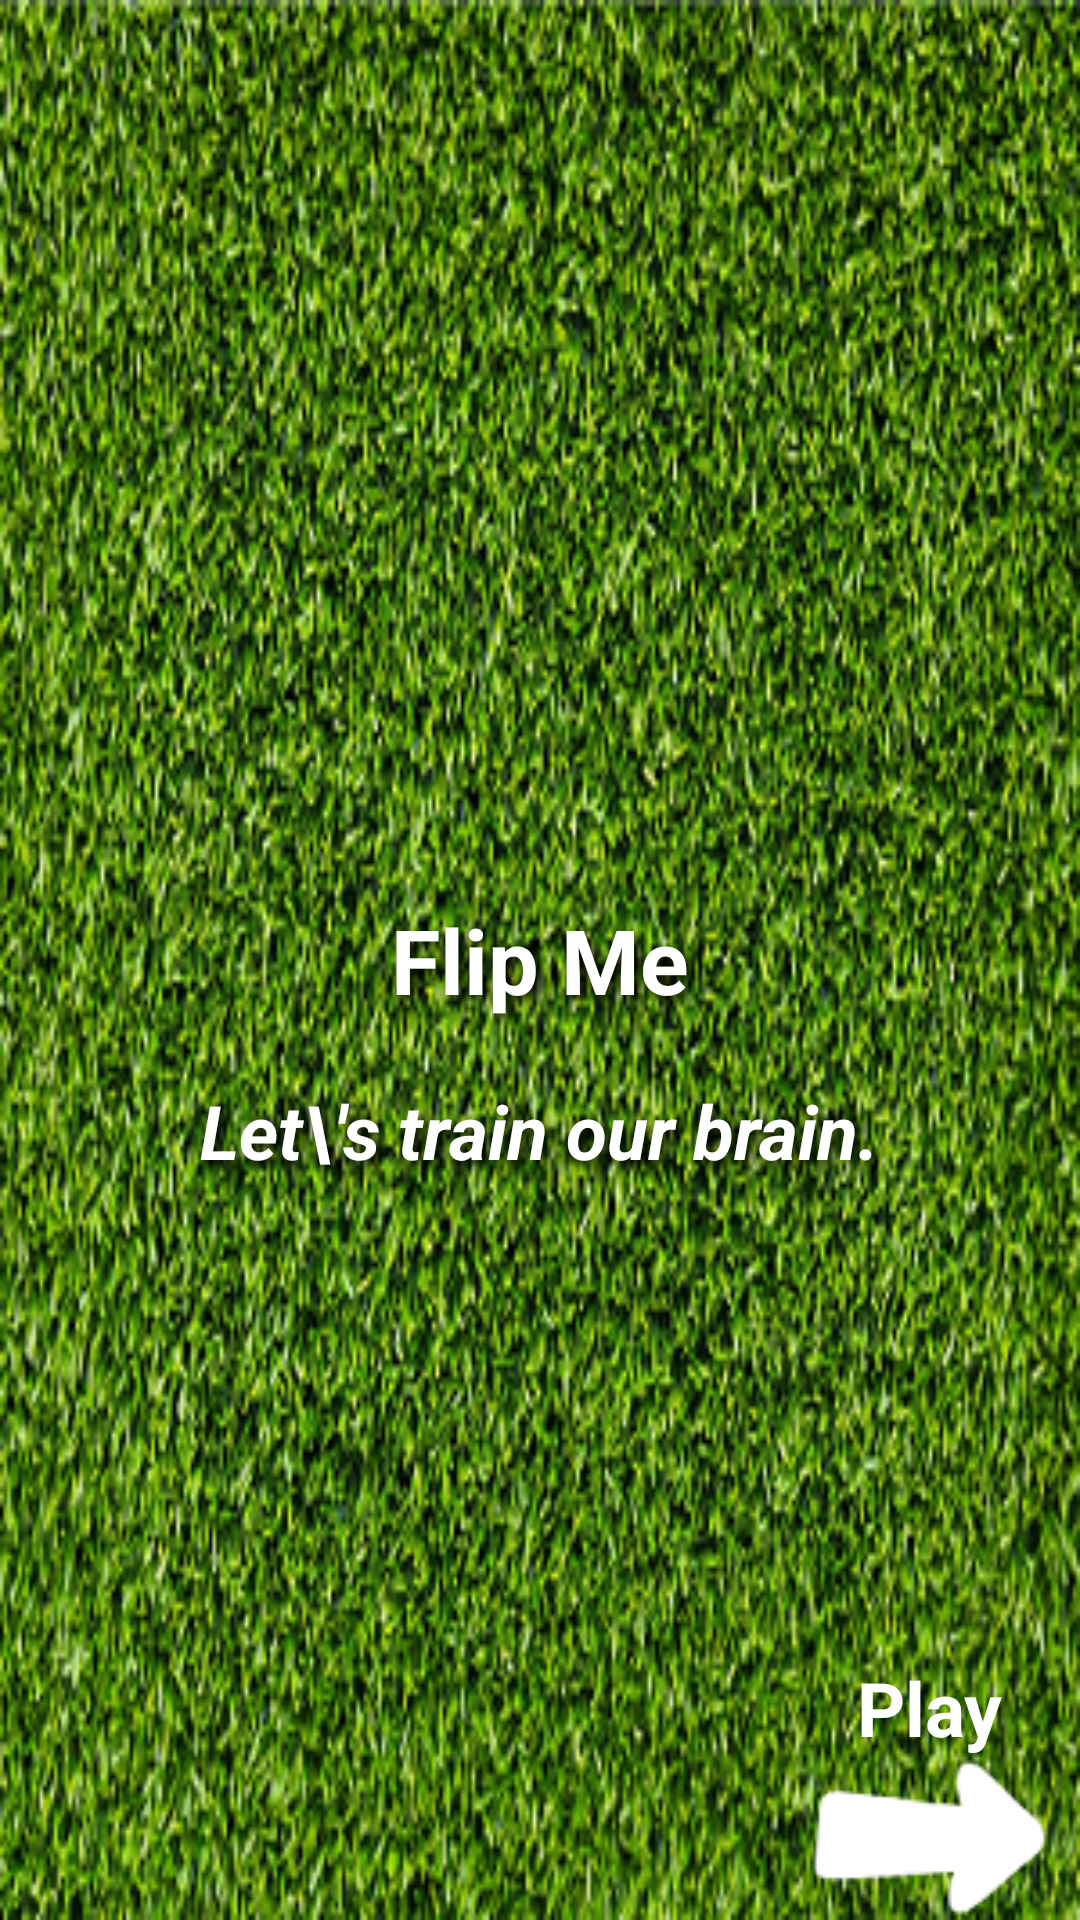

Screen size 1080*1920. Icon name, then its center in pixels as point (x, y):
start: point (930, 1839)
